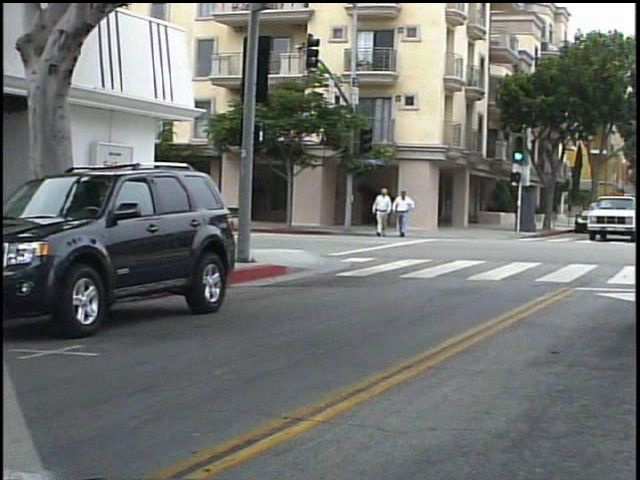person: (377, 183, 401, 245), (396, 185, 421, 242)
